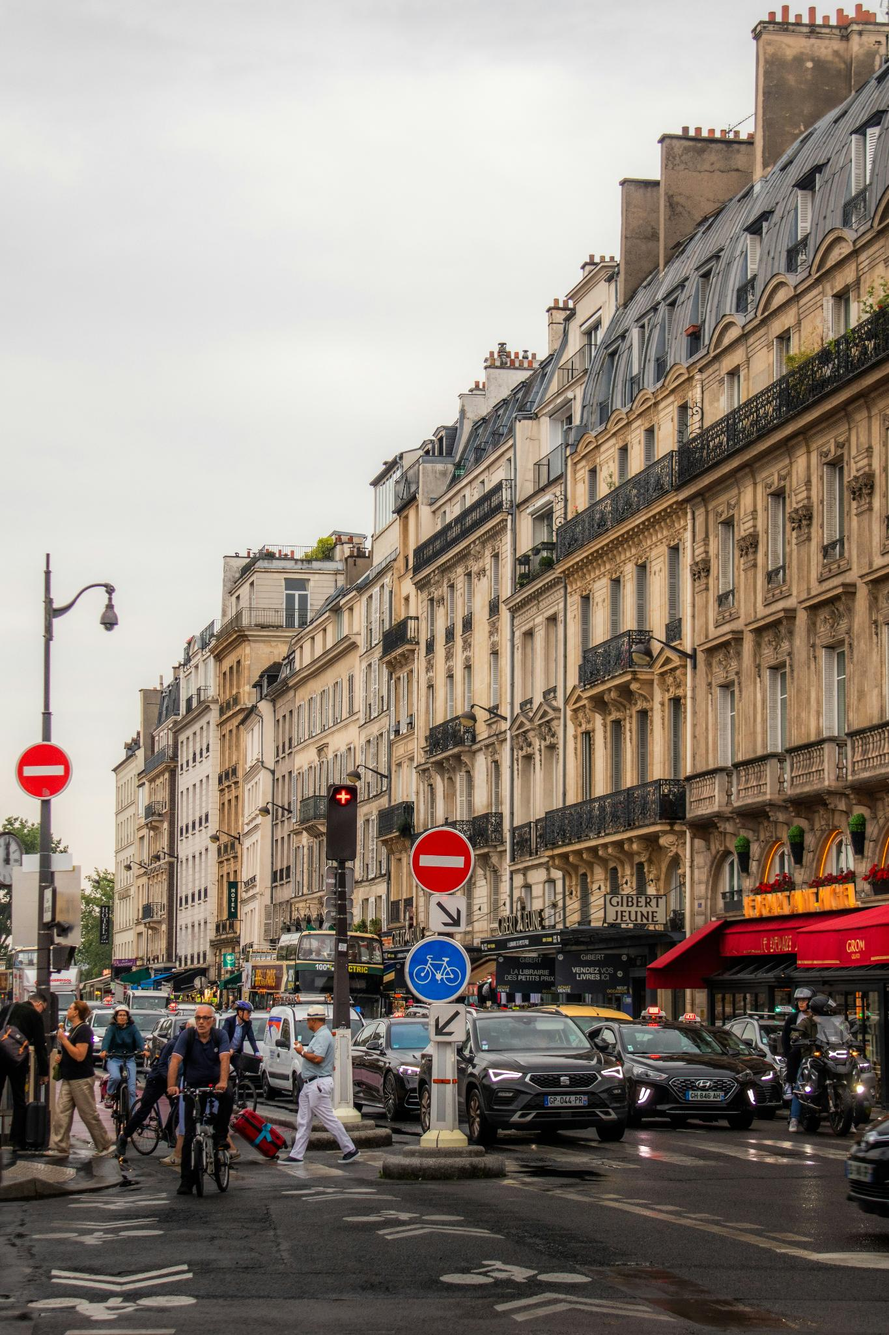car: (459, 1011, 631, 1148), (604, 1025, 777, 1130), (383, 1021, 432, 1125), (848, 1111, 889, 1222), (722, 1018, 771, 1054)
pedestrian: (171, 1011, 234, 1203), (285, 1012, 360, 1170), (52, 1003, 114, 1167), (0, 989, 48, 1157), (103, 1005, 145, 1164), (785, 992, 820, 1113), (230, 1001, 266, 1109), (231, 1004, 262, 1061)
